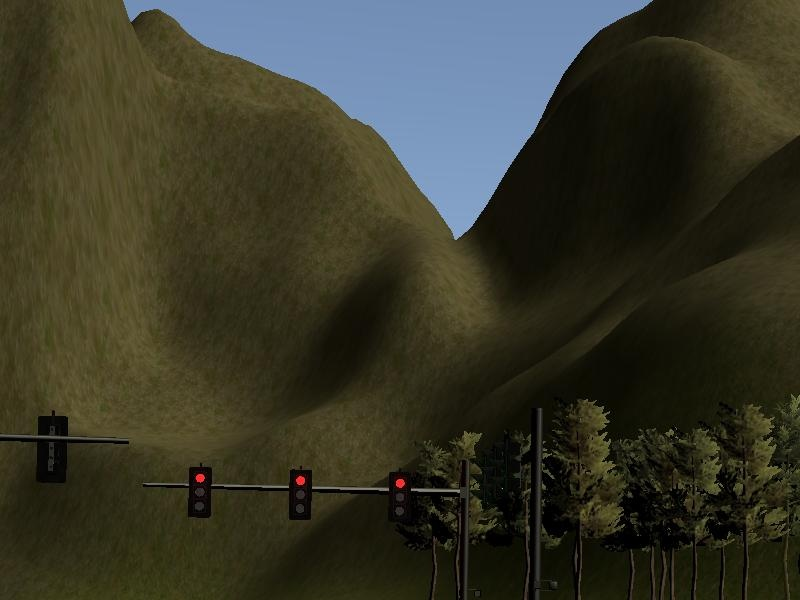red: (280, 462, 324, 526), (180, 459, 221, 523), (381, 462, 416, 532)
